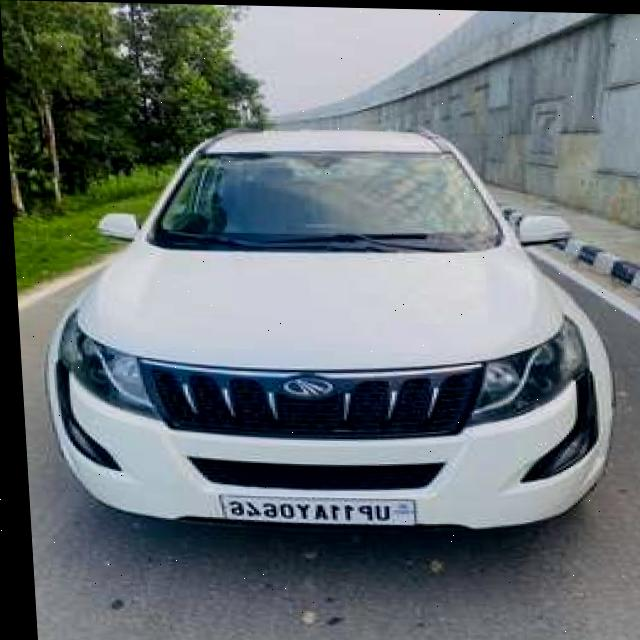plate: (213, 491, 412, 525)
